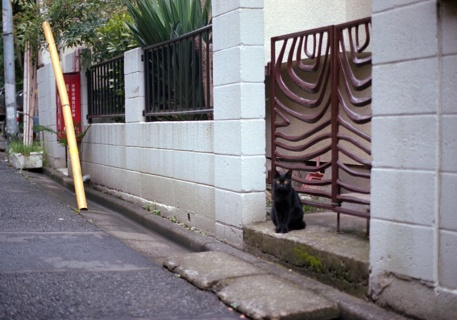Cat: (270, 168, 308, 233)
